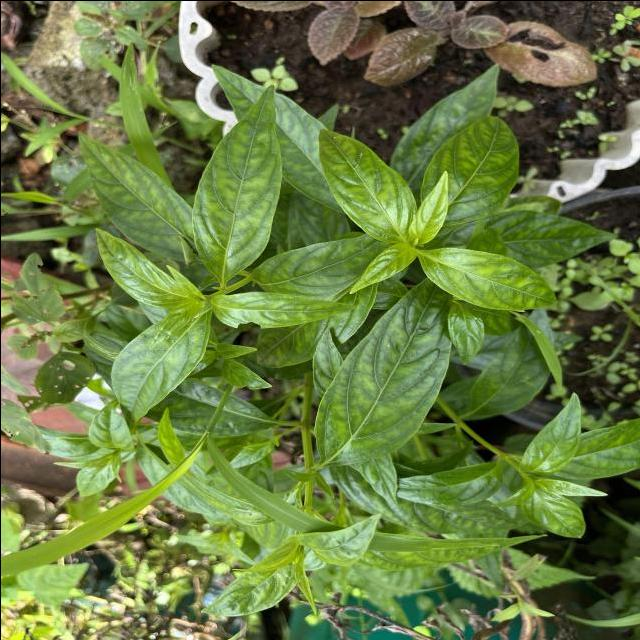Andrographis paniculata: (311, 276, 452, 465), (190, 82, 284, 284), (76, 130, 192, 260), (109, 308, 211, 428), (419, 114, 519, 234), (317, 127, 417, 245), (418, 246, 558, 312), (92, 226, 184, 309), (214, 290, 359, 328), (518, 391, 582, 476), (520, 491, 586, 539)
